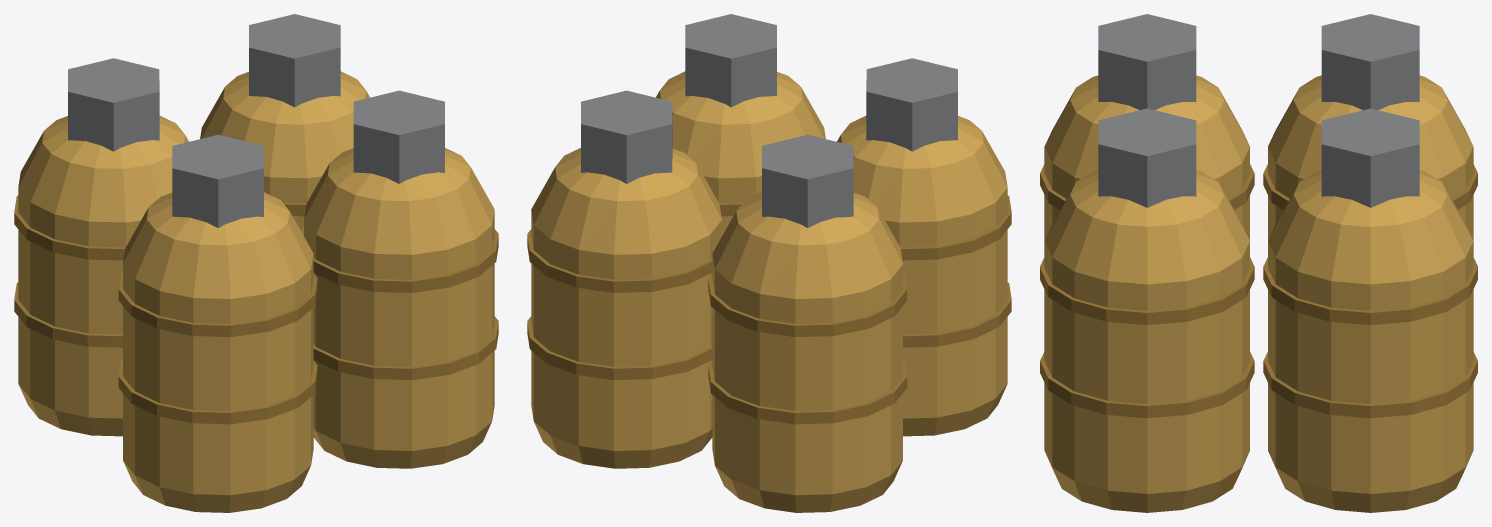
Rendered from vge_item_oxygen_canister_c.obj.
The picture shows the model from 3 angles, left to right: view 1: azimuth 30°, elevation 25°; view 2: azimuth 150°, elevation 25°; view 3: azimuth 270°, elevation 25°; orthographic projection. The views are drawn at different scales.
Visible parts, largest first — view 1: vge_item_oxygen_canister_c_0, vge_item_oxygen_canister_c_4, vge_item_oxygen_canister_c_8, vge_item_oxygen_canister_c_12, vge_item_oxygen_canister_c_11, vge_item_oxygen_canister_c_7, vge_item_oxygen_canister_c_15, vge_item_oxygen_canister_c_3, vge_item_oxygen_canister_c_1, vge_item_oxygen_canister_c_2, vge_item_oxygen_canister_c_6, vge_item_oxygen_canister_c_5 (+2 smaller); view 2: vge_item_oxygen_canister_c_8, vge_item_oxygen_canister_c_12, vge_item_oxygen_canister_c_0, vge_item_oxygen_canister_c_4, vge_item_oxygen_canister_c_3, vge_item_oxygen_canister_c_15, vge_item_oxygen_canister_c_7, vge_item_oxygen_canister_c_11, vge_item_oxygen_canister_c_9, vge_item_oxygen_canister_c_10, vge_item_oxygen_canister_c_14, vge_item_oxygen_canister_c_13 (+2 smaller); view 3: vge_item_oxygen_canister_c_4, vge_item_oxygen_canister_c_12, vge_item_oxygen_canister_c_8, vge_item_oxygen_canister_c_0, vge_item_oxygen_canister_c_15, vge_item_oxygen_canister_c_7, vge_item_oxygen_canister_c_3, vge_item_oxygen_canister_c_11, vge_item_oxygen_canister_c_5, vge_item_oxygen_canister_c_13, vge_item_oxygen_canister_c_6, vge_item_oxygen_canister_c_14 (+2 smaller).
Boxes of the visible parts, x1,y1,x2,y2 form: vge_item_oxygen_canister_c_0: (123,192,313,512); vge_item_oxygen_canister_c_4: (304,148,494,468); vge_item_oxygen_canister_c_8: (18,116,188,436); vge_item_oxygen_canister_c_12: (200,71,369,231); vge_item_oxygen_canister_c_11: (68,58,159,151); vge_item_oxygen_canister_c_7: (353,90,444,183); vge_item_oxygen_canister_c_15: (249,14,340,107); vge_item_oxygen_canister_c_3: (172,134,263,227); vge_item_oxygen_canister_c_1: (118,359,317,424); vge_item_oxygen_canister_c_2: (118,271,317,336); vge_item_oxygen_canister_c_6: (302,227,498,292); vge_item_oxygen_canister_c_5: (313,316,498,379); vge_item_oxygen_canister_c_8: (712,192,902,512); vge_item_oxygen_canister_c_12: (531,148,721,468); vge_item_oxygen_canister_c_0: (837,116,1007,436); vge_item_oxygen_canister_c_4: (656,71,825,231); vge_item_oxygen_canister_c_3: (866,58,957,151); vge_item_oxygen_canister_c_15: (581,90,672,183); vge_item_oxygen_canister_c_7: (685,14,776,107); vge_item_oxygen_canister_c_11: (762,134,853,227); vge_item_oxygen_canister_c_9: (708,359,907,424); vge_item_oxygen_canister_c_10: (708,271,907,336); vge_item_oxygen_canister_c_14: (527,227,723,292); vge_item_oxygen_canister_c_13: (527,316,712,379); vge_item_oxygen_canister_c_4: (1044,170,1249,512); vge_item_oxygen_canister_c_12: (1268,170,1473,512); vge_item_oxygen_canister_c_8: (1268,75,1473,240); vge_item_oxygen_canister_c_0: (1044,75,1249,240); vge_item_oxygen_canister_c_15: (1321,108,1419,207); vge_item_oxygen_canister_c_7: (1098,108,1196,207); vge_item_oxygen_canister_c_3: (1098,14,1196,110); vge_item_oxygen_canister_c_11: (1321,14,1419,110); vge_item_oxygen_canister_c_5: (1040,352,1254,418); vge_item_oxygen_canister_c_13: (1263,352,1477,418); vge_item_oxygen_canister_c_6: (1040,258,1254,324); vge_item_oxygen_canister_c_14: (1263,258,1477,324).
Size of the model in its own units: 0.588 by 0.506 by 0.588.
